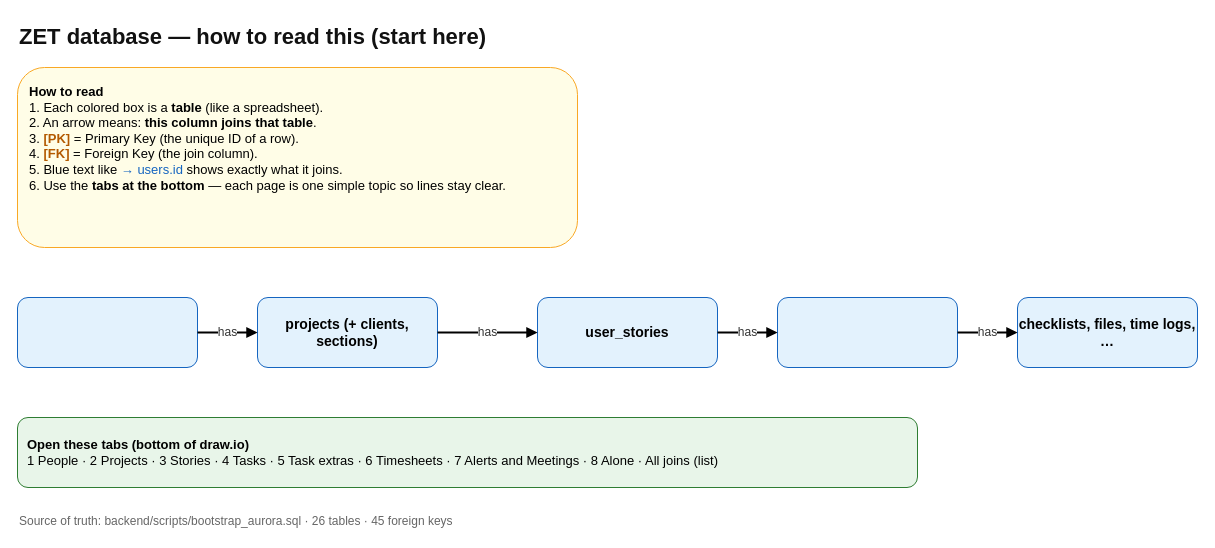
The diagram is 1215 pixels wide and 548 high, and some of its shapes have lost their labels. The centre of each missing label's shape, as x and y in pixels:
tasks: (x=867, y=332)
users (people): (x=107, y=332)
